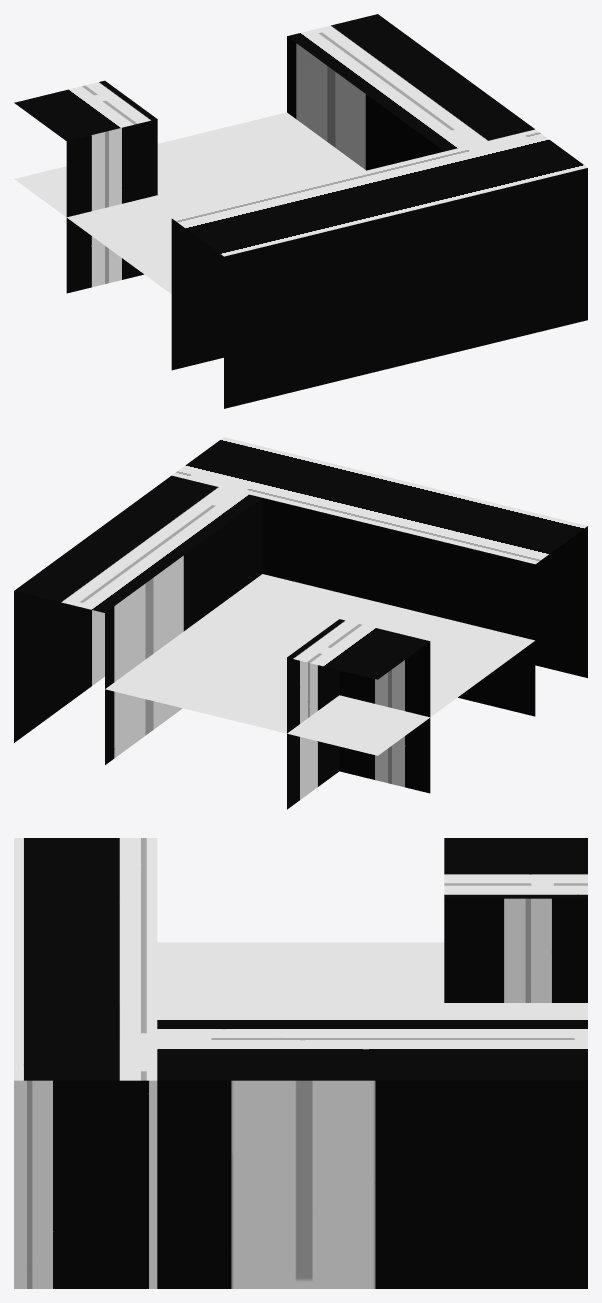
File: TurnRight.obj
3 views of the same model, one above another, from view 1: azimuth 30°, elevation 25°; view 2: azimuth 150°, elevation 25°; view 3: azimuth 270°, elevation 25° (orthographic). The views are drawn at different scales.
Visible parts, largest first — view 1: TurnRight; view 2: TurnRight; view 3: TurnRight.
Part boxes in pixels (box(x1,y1,x2,y2)): TurnRight: box(14, 14, 587, 408); TurnRight: box(14, 437, 587, 809); TurnRight: box(14, 838, 587, 1288).
Bounding box in the file's own units: 1 × 0.4 × 1.
